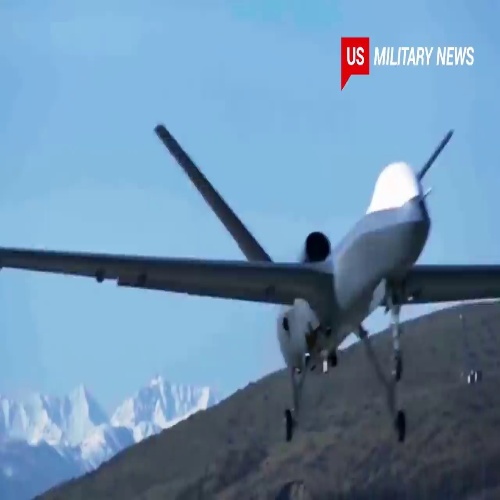uav288: (7, 122, 500, 445)
